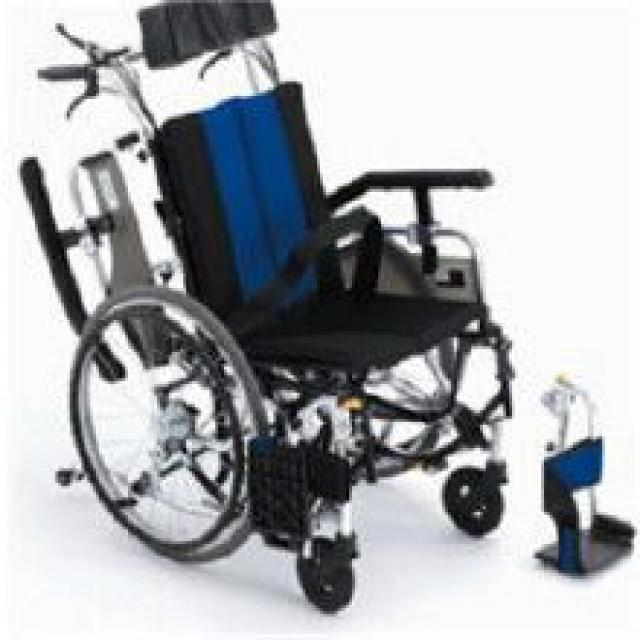wheelchair: (18, 0, 510, 620)
